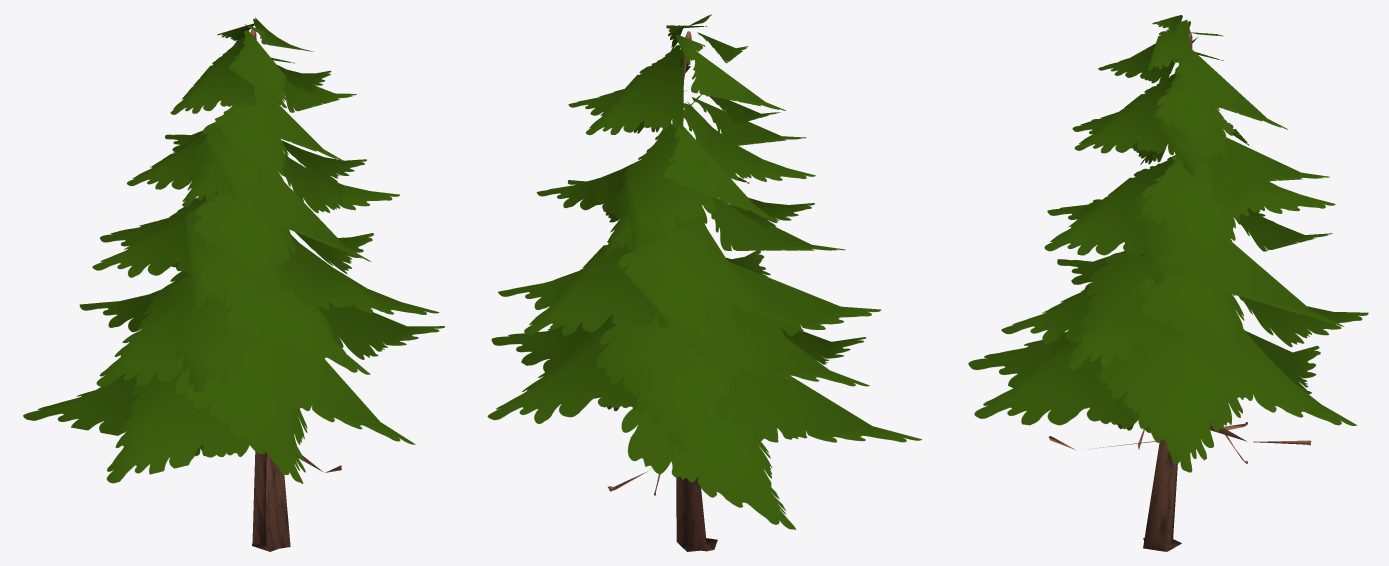
The model's file is pine_2.glb.
The picture shows the model from 3 angles, left to right: view 1: azimuth 30°, elevation 25°; view 2: azimuth 150°, elevation 25°; view 3: azimuth 270°, elevation 25°; orthographic projection. The views are drawn at different scales.
Visible parts, largest first — view 1: Pine_2; view 2: Pine_2; view 3: Pine_2.
Part boxes in pixels (x1,y1,x2,y2): Pine_2: (23, 17, 444, 551); Pine_2: (487, 14, 922, 551); Pine_2: (968, 15, 1368, 551).
Bounding box in the file's own units: 5.73 × 7.27 × 5.22.
2 materials, 2 textured.
